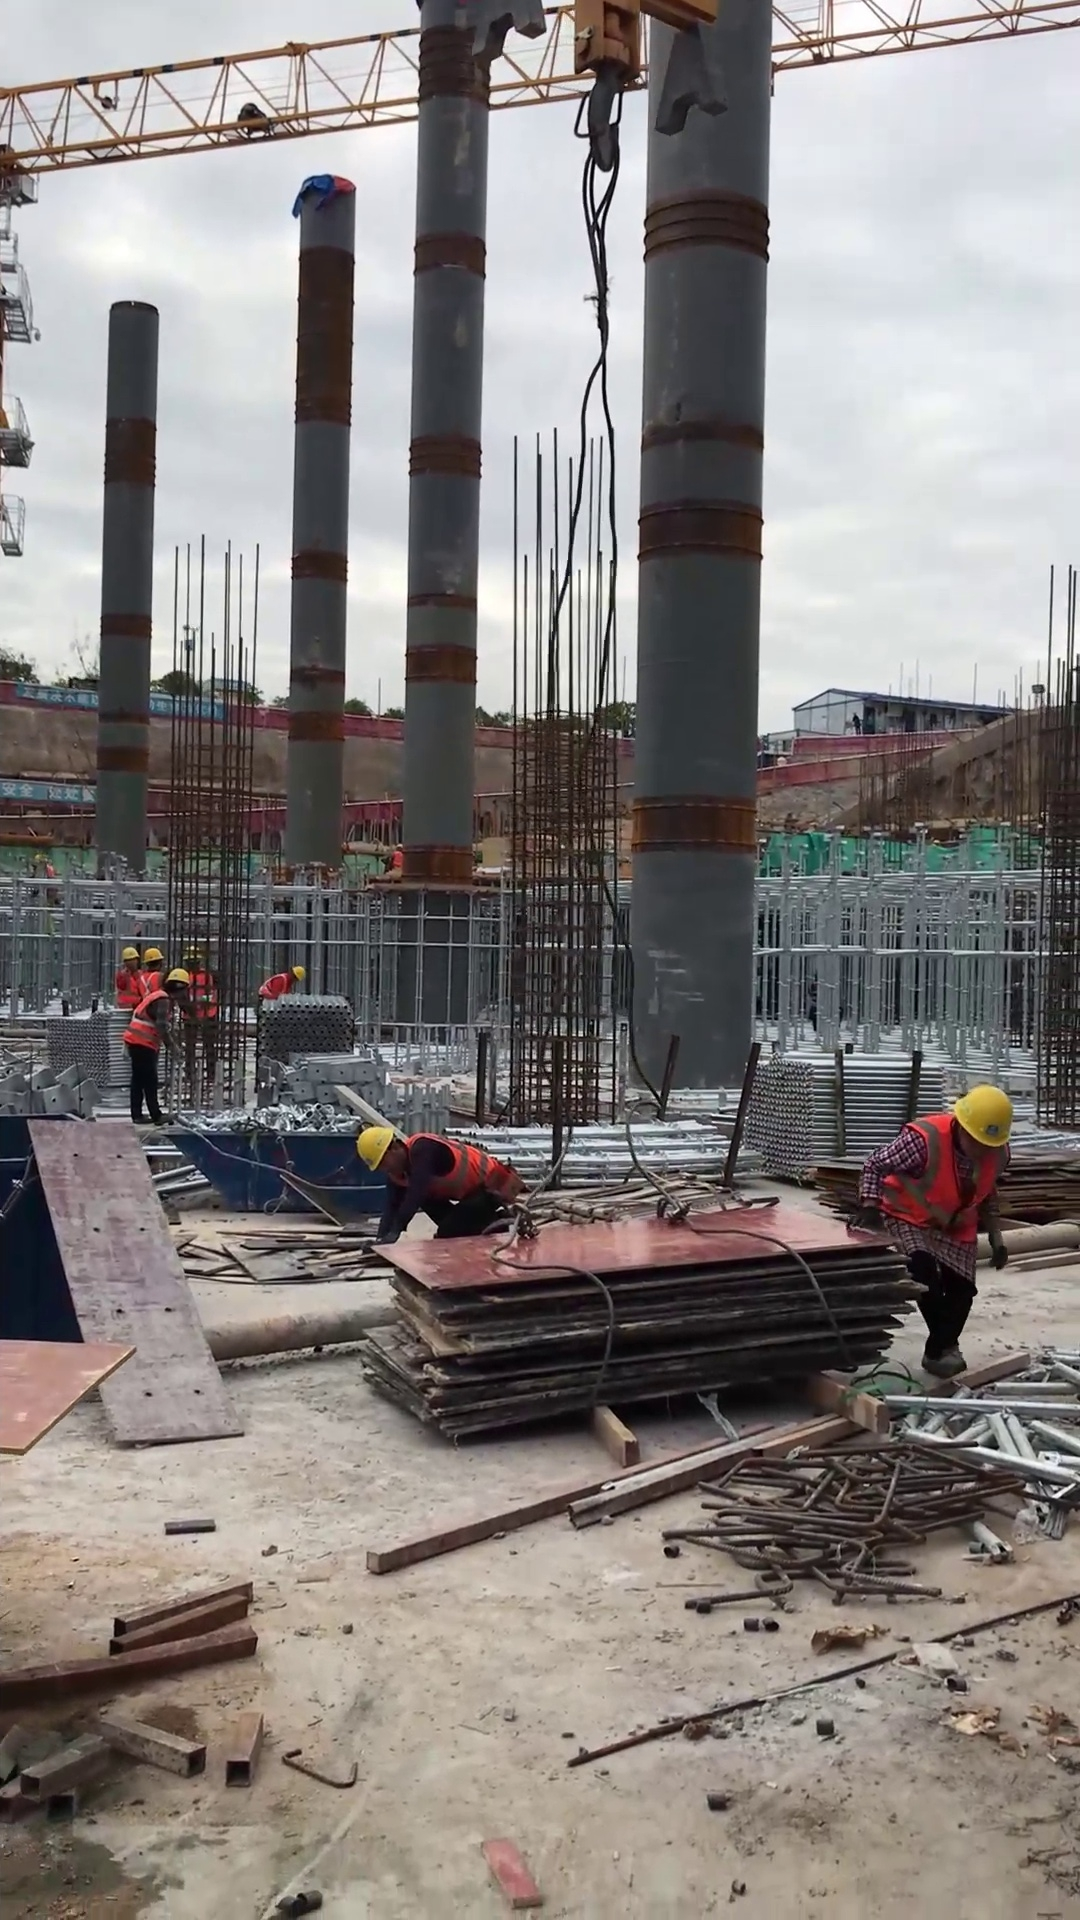board: (362, 1205, 907, 1434), (992, 1150, 1080, 1218)
helmet: (950, 1084, 1012, 1150), (356, 1122, 394, 1173), (160, 967, 192, 990), (288, 963, 307, 983), (181, 945, 203, 963), (142, 947, 163, 964), (118, 946, 140, 961), (394, 842, 405, 849)
hook: (462, 1, 732, 176)
hopper: (161, 1128, 391, 1216)
person: (849, 1081, 1016, 1381), (354, 1121, 523, 1249), (120, 965, 192, 1128), (177, 943, 220, 1086), (254, 961, 306, 1000), (114, 946, 141, 1009), (136, 944, 167, 996), (383, 841, 406, 874)
scaffold: (738, 1048, 945, 1182), (486, 1115, 761, 1188), (48, 1004, 139, 1089), (254, 992, 356, 1062)
slogan: (18, 683, 229, 726), (1, 780, 104, 809)
vest: (875, 1110, 1008, 1246), (406, 1131, 506, 1204), (120, 987, 174, 1053), (177, 967, 218, 1022), (257, 970, 292, 1000), (117, 964, 137, 1009), (135, 967, 160, 997), (387, 847, 404, 871)
